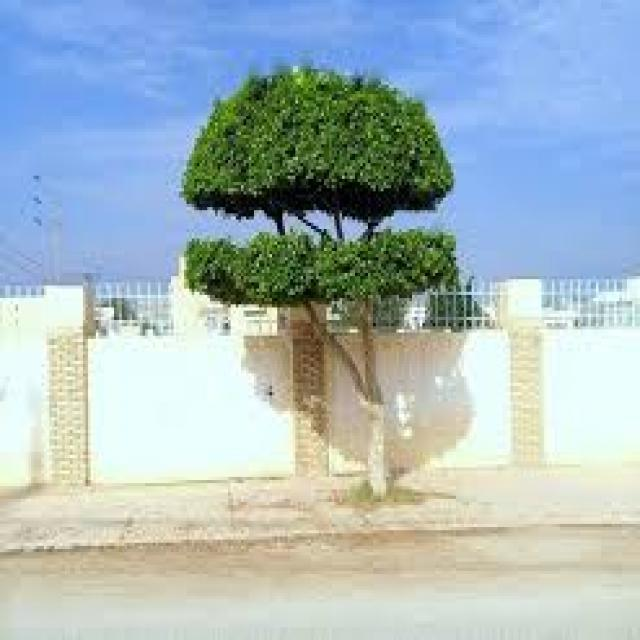tree: (181, 69, 456, 496)
